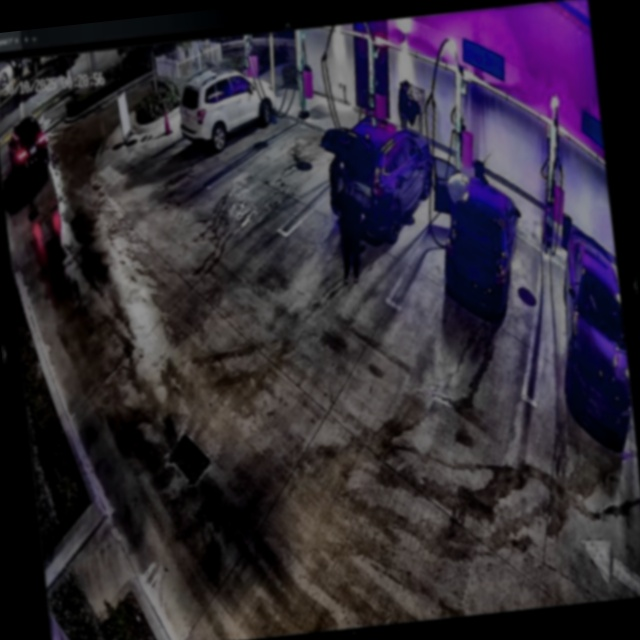Car: (434, 146, 530, 323), (320, 110, 443, 245), (175, 64, 282, 150)
